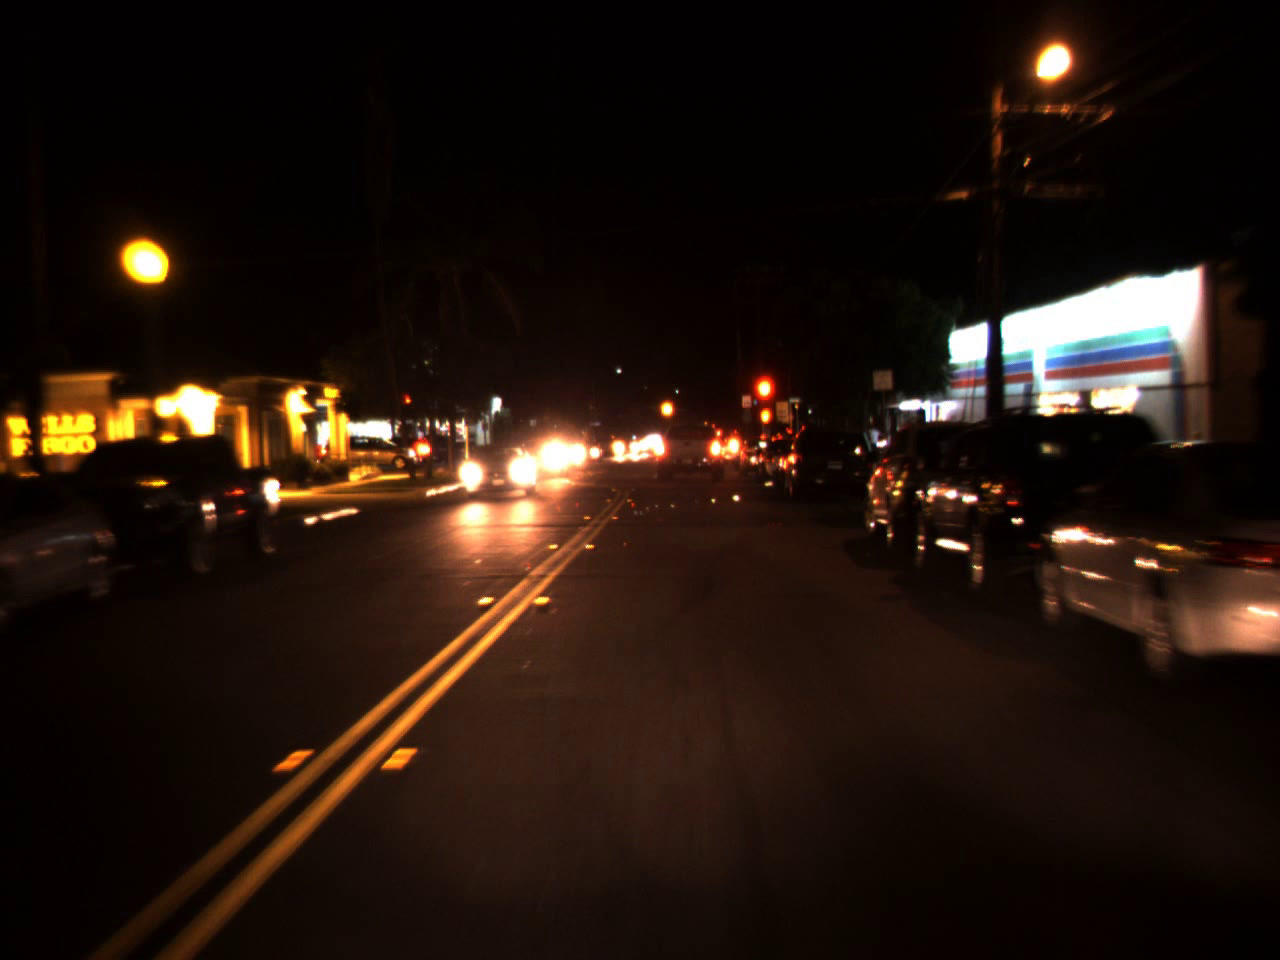stop: (749, 370, 779, 434)
warning: (657, 390, 676, 427)
